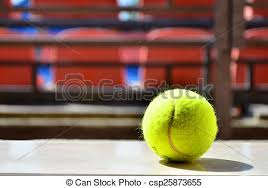tennis_ball: (141, 87, 219, 164)
